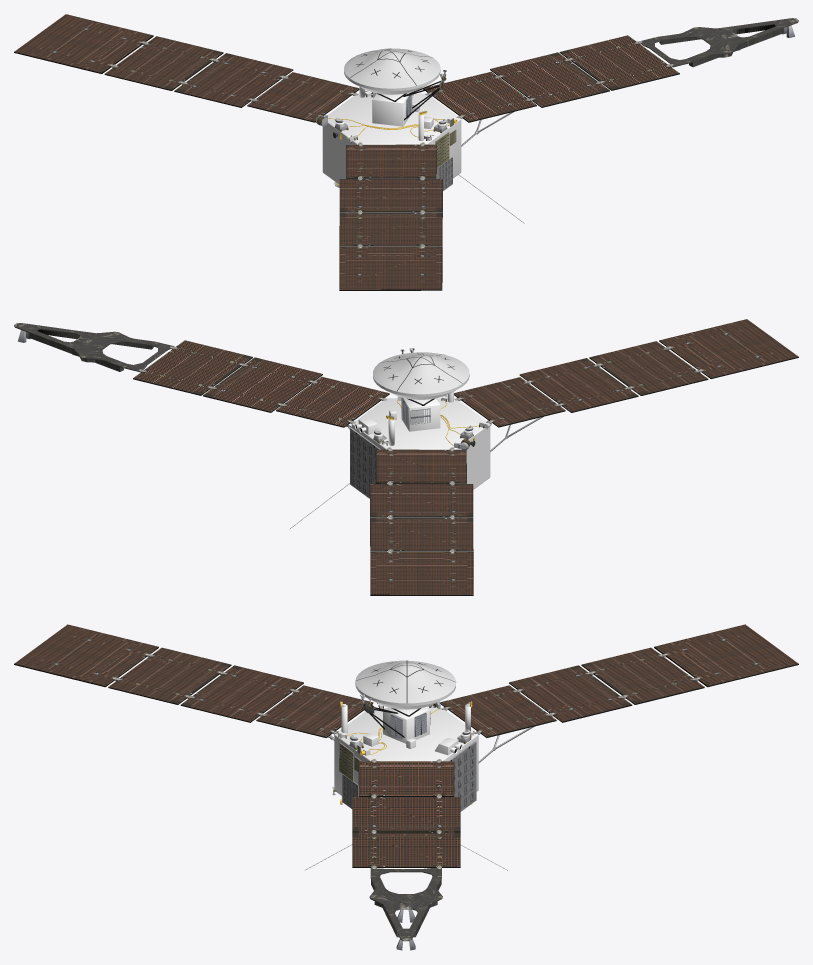
File: juno.glb
The picture shows the model from 3 angles, top to bottom: view 1: azimuth 30°, elevation 25°; view 2: azimuth 150°, elevation 25°; view 3: azimuth 270°, elevation 25°; orthographic projection. The views are drawn at different scales.
Parts seen in each view (by area): view 1: shiny_panels, silver_foil.002, dish_top, solar_panels, tex_01, black_krinkle, silver_foil, dish_bottom; view 2: shiny_panels, silver_foil.002, dish_top, tex_01, solar_panels, black_krinkle, silver_foil; view 3: shiny_panels, tex_01, silver_foil.002, dish_top, solar_panels, black_krinkle, silver_foil.
Part boxes in pixels (<box>): shiny_panels: <box>14,14,679,289</box>; silver_foil.002: <box>322,93,461,184</box>; dish_top: <box>344,48,440,88</box>; solar_panels: <box>639,18,798,67</box>; tex_01: <box>110,25,794,247</box>; black_krinkle: <box>14,36,679,290</box>; silver_foil: <box>335,87,452,141</box>; dish_bottom: <box>344,69,440,94</box>; shiny_panels: <box>133,319,798,594</box>; silver_foil.002: <box>351,398,490,489</box>; dish_top: <box>373,352,469,394</box>; tex_01: <box>17,330,702,552</box>; solar_panels: <box>14,323,173,371</box>; black_krinkle: <box>133,340,798,595</box>; silver_foil: <box>354,391,490,445</box>; shiny_panels: <box>14,624,798,866</box>; tex_01: <box>112,653,699,950</box>; silver_foil.002: <box>334,708,478,795</box>; dish_top: <box>355,660,455,703</box>; solar_panels: <box>369,868,442,941</box>; black_krinkle: <box>14,647,798,867</box>; silver_foil: <box>338,704,473,800</box>.
Size of what is drawn, in the model's own units: 19.14 by 4.61 by 20.1.
Materials: 13 (7 with a texture image).
